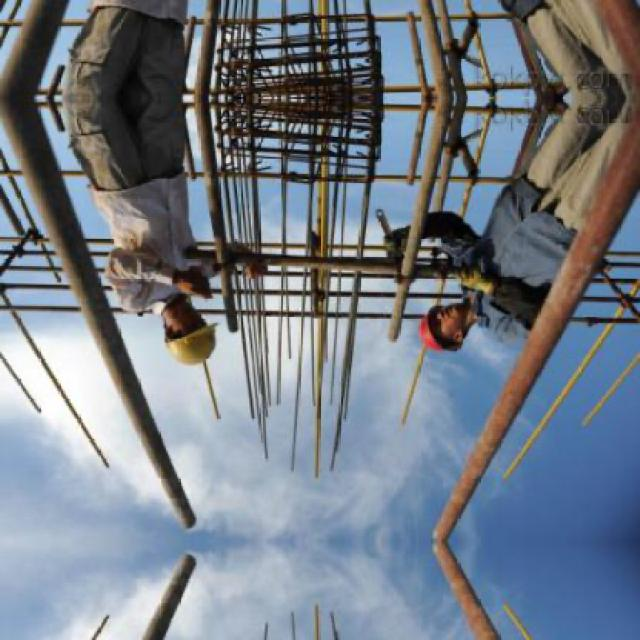con casco: (382, 271, 502, 366), (139, 278, 227, 372)
